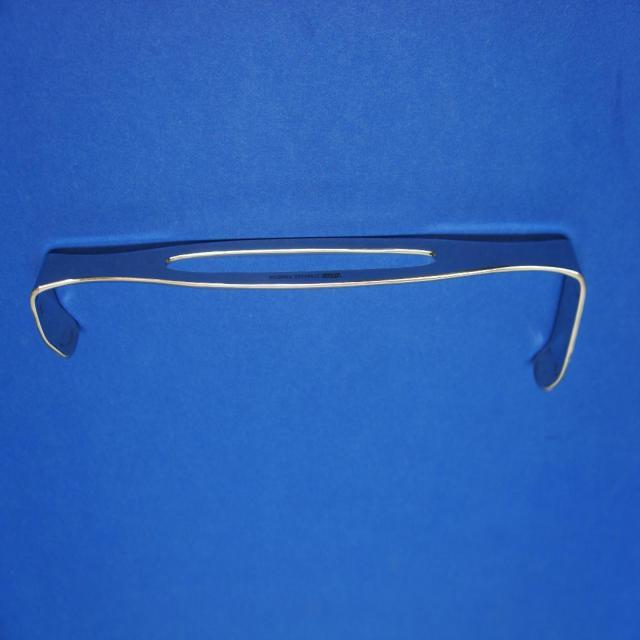Army_navy: (22, 222, 590, 402)
